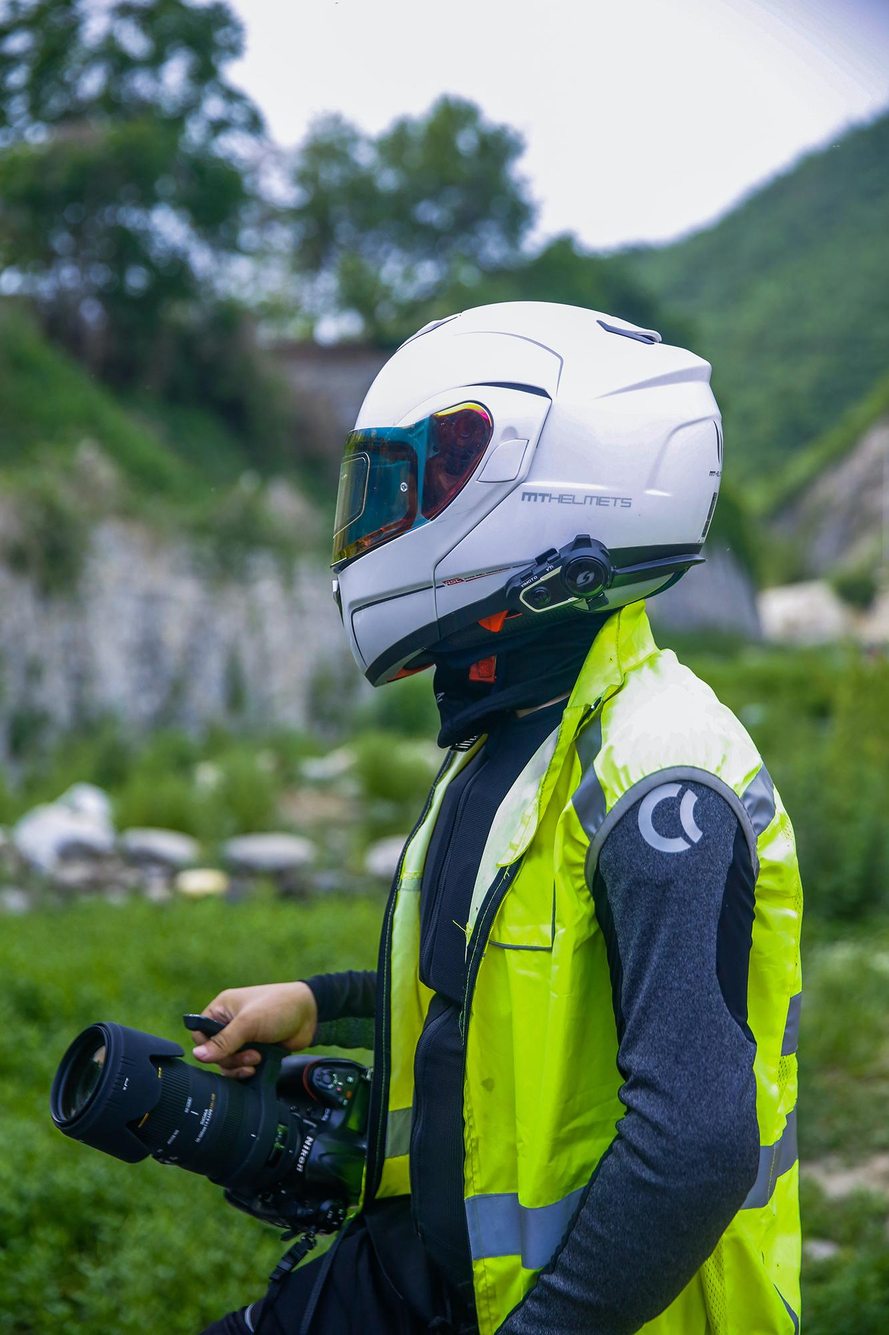helmet: (328, 298, 726, 690)
